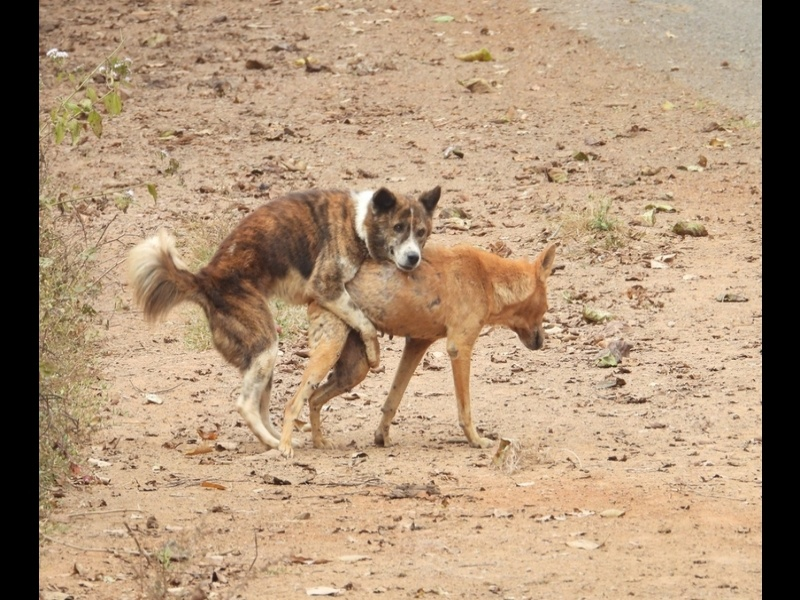dog: (143, 175, 446, 465), (273, 239, 561, 453)
